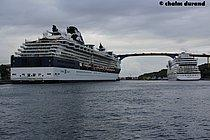Ship: (4, 24, 129, 86)
